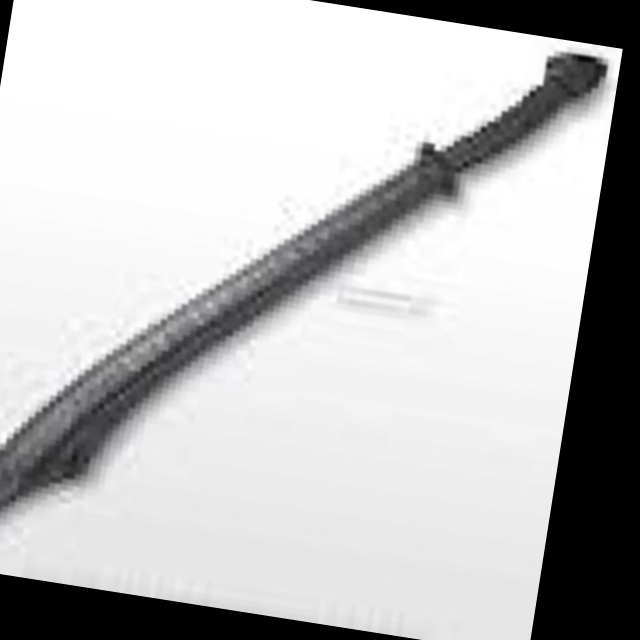Sharp-Object: (0, 0, 610, 640)
